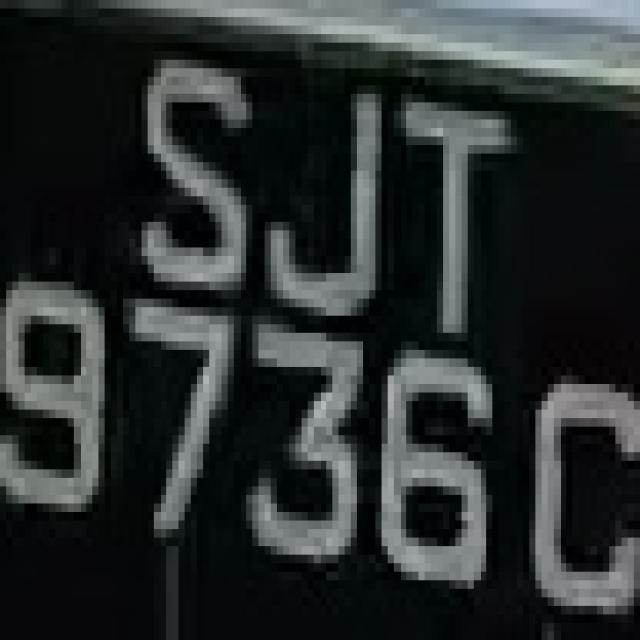3: (246, 307, 369, 580)
6: (382, 316, 492, 623)
7: (111, 265, 252, 546)
9: (12, 248, 130, 529)
C: (5, 5, 6, 8)
J: (271, 77, 394, 307)
S: (105, 34, 252, 299)
T: (388, 68, 542, 307)
